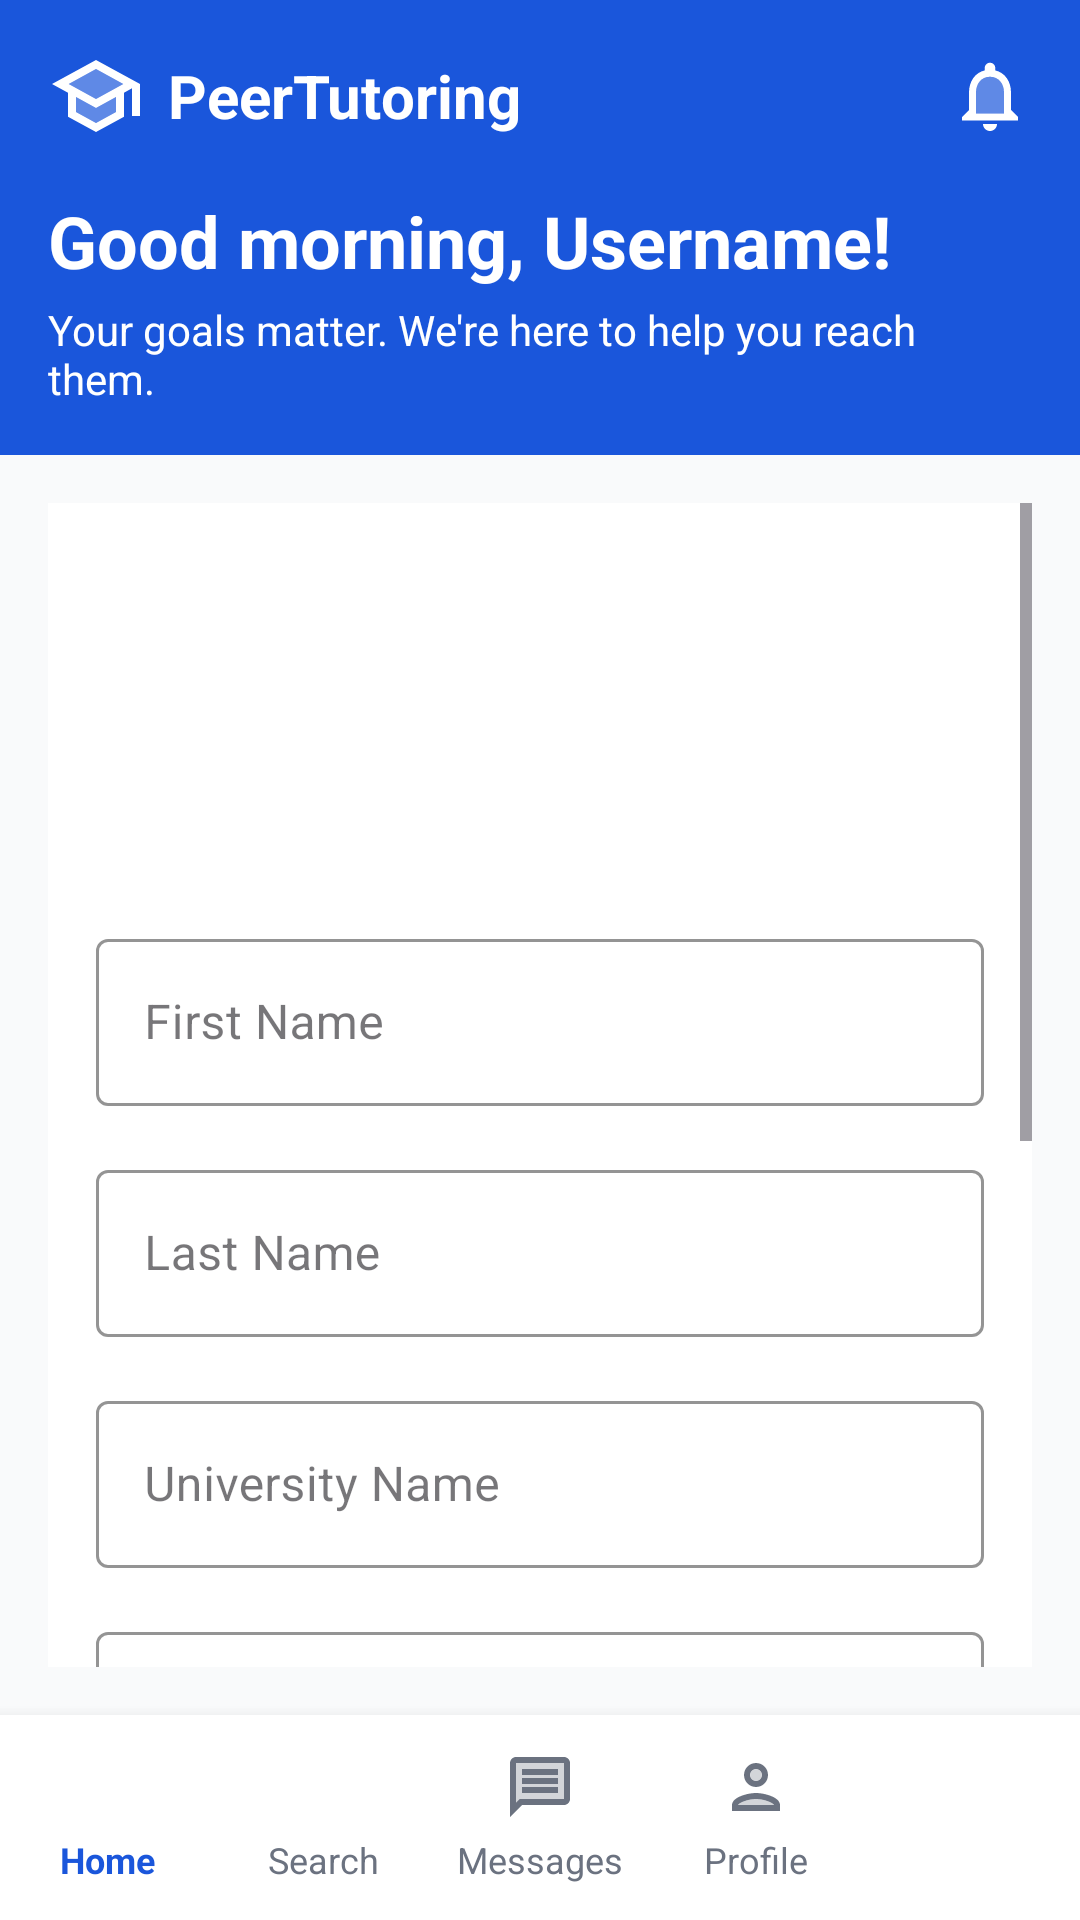

Icon click points for this 1080 x 1920 phone screenshot, format [x,y]:
notifications: [990,96]
person: [756,1787]
school hat: [96,96]
